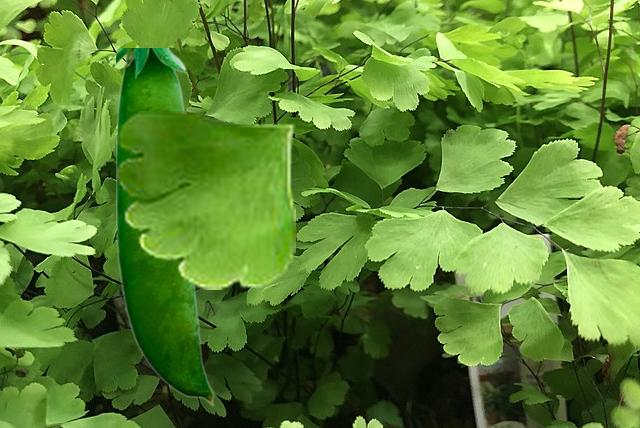pea: (116, 48, 213, 405)
